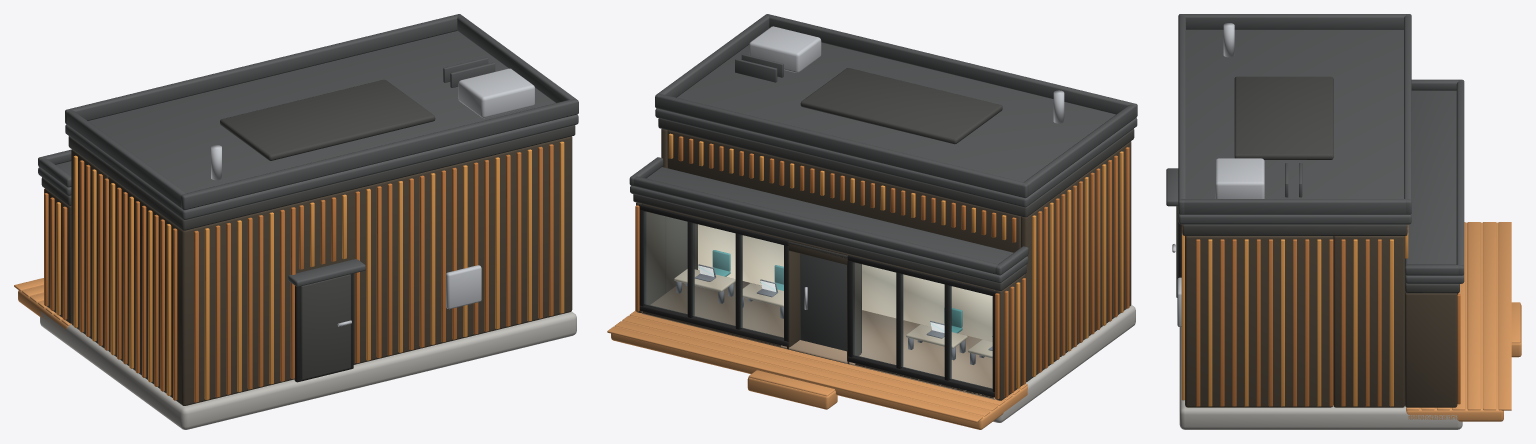
Rendered from slat-studio-level-2.glb.
3 views of the same model, side by side, from view 1: azimuth 30°, elevation 25°; view 2: azimuth 150°, elevation 25°; view 3: azimuth 270°, elevation 25° (orthographic). The views are drawn at different scales.
Parts seen in each view (by area): view 1: rear mass, main roof, foundation, billboard pad, main parapet back, main parapet front, main fascia, service door leaf, roof unit, room pier west, main parapet west, main parapet east (+57 smaller); view 2: main roof, wall over room, bay roof, room floor, billboard pad, room back wall, main parapet front, main parapet back, rear mass, main fascia, deck edge, bay parapet front (+61 smaller); view 3: main roof, rear mass, room pier east, bay roof, billboard pad, foundation, bay pier east, main parapet east, main parapet west, deck edge, main fascia, deck plank.004 (+32 smaller).
Boxes of the visible parts, <box> form: rear mass: <box>108,136,572,405</box>; main roof: <box>65,31,578,219</box>; foundation: <box>40,311,576,429</box>; billboard pad: <box>220,79,435,160</box>; main parapet back: <box>181,98,578,210</box>; main parapet front: <box>65,14,461,124</box>; main fascia: <box>68,125,575,230</box>; service door leaf: <box>300,274,350,379</box>; roof unit: <box>458,68,534,118</box>; room pier west: <box>71,149,108,348</box>; main parapet west: <box>67,109,188,207</box>; main parapet east: <box>456,14,578,102</box>; main roof: <box>655,42,1137,207</box>; wall over room: <box>667,130,1020,252</box>; bay roof: <box>630,167,1028,283</box>; room floor: <box>641,281,995,399</box>; billboard pad: <box>800,68,1002,144</box>; room back wall: <box>698,224,992,341</box>; main parapet front: <box>655,93,1028,198</box>; main parapet back: <box>765,14,1137,117</box>; rear mass: <box>1060,141,1131,356</box>; main fascia: <box>658,118,1134,217</box>; deck edge: <box>611,315,1027,429</box>; bay parapet front: <box>630,175,1003,275</box>; main roof: <box>1178,29,1411,224</box>; rear mass: <box>1185,236,1333,407</box>; room pier east: <box>1333,236,1404,407</box>; bay roof: <box>1405,90,1464,283</box>; billboard pad: <box>1234,76,1333,159</box>; foundation: <box>1179,327,1462,429</box>; bay pier east: <box>1405,292,1457,407</box>; main parapet east: <box>1180,199,1410,214</box>; main parapet west: <box>1180,14,1409,29</box>; deck edge: <box>1406,222,1503,421</box>; main fascia: <box>1182,224,1407,235</box>; deck plank.004: <box>1467,222,1480,410</box>.
Bounding box in the file's own units: 8.1 × 4.94 × 6.46.
